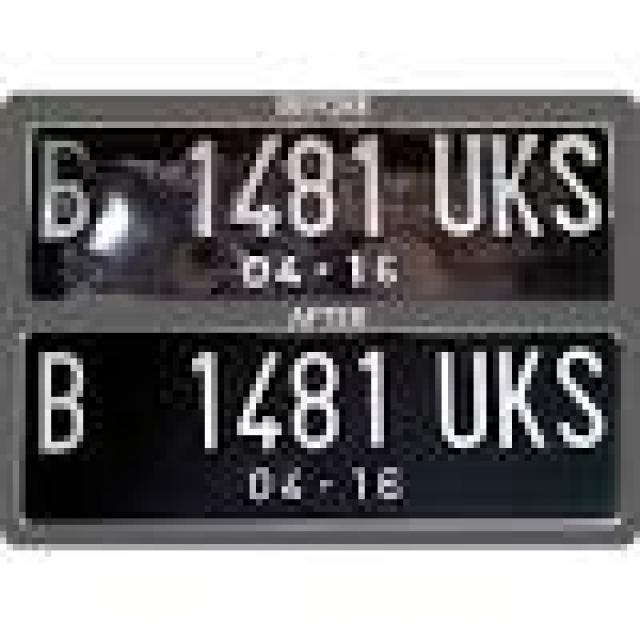lisence-plate: (0, 90, 640, 550)
